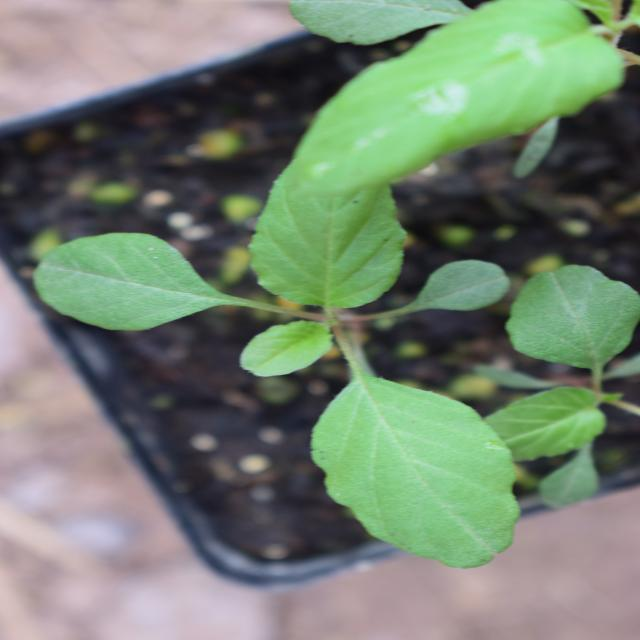pigweed: (87, 225, 479, 507)
